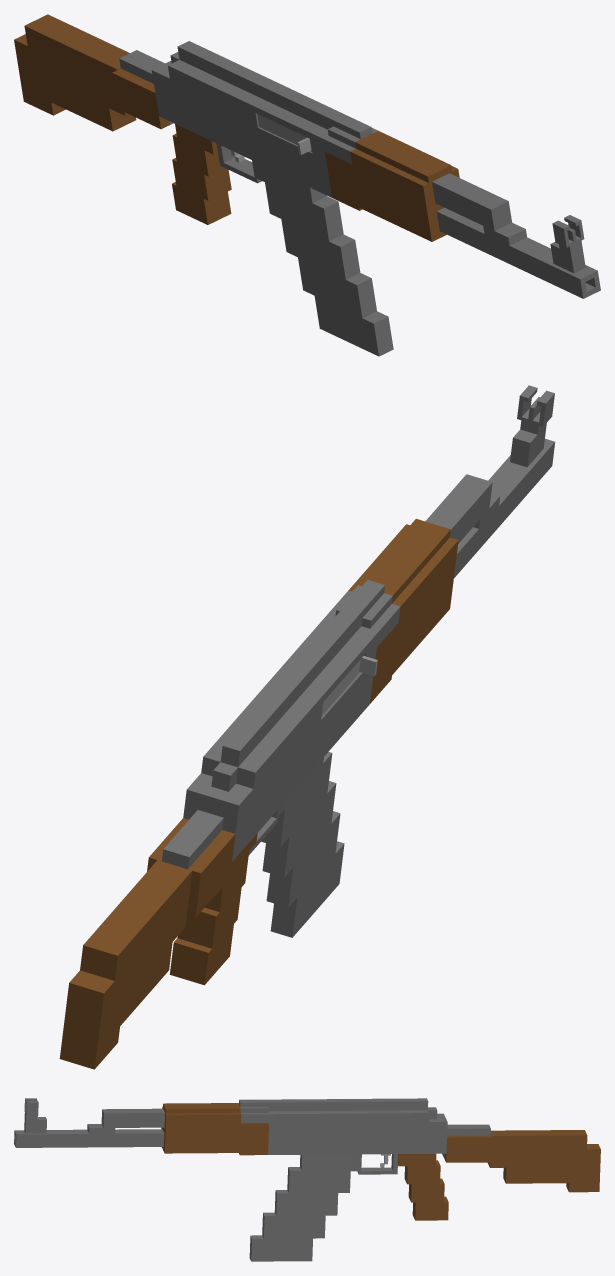
Rendered from handAnimations.fbx.
The picture shows the model from 3 angles, top to bottom: view 1: azimuth 30°, elevation 25°; view 2: azimuth 150°, elevation 25°; view 3: azimuth 270°, elevation 25°; orthographic projection. The views are drawn at different scales.
Parts seen in each view (by area): view 1: ak-47_base, ak-47_clip, ak-47_ejection; view 2: ak-47_base, ak-47_clip; view 3: ak-47_base, ak-47_clip.
Part boxes in pixels (x1,y1,x2,y2): ak-47_base: (14,14,600,298); ak-47_clip: (262,165,393,356); ak-47_ejection: (257,114,312,154); ak-47_base: (59,385,555,1069); ak-47_clip: (261,752,344,937); ak-47_base: (14,1098,600,1220); ak-47_clip: (249,1154,351,1261).
Size of the model in its own units: 391 by 775 by 2474.
